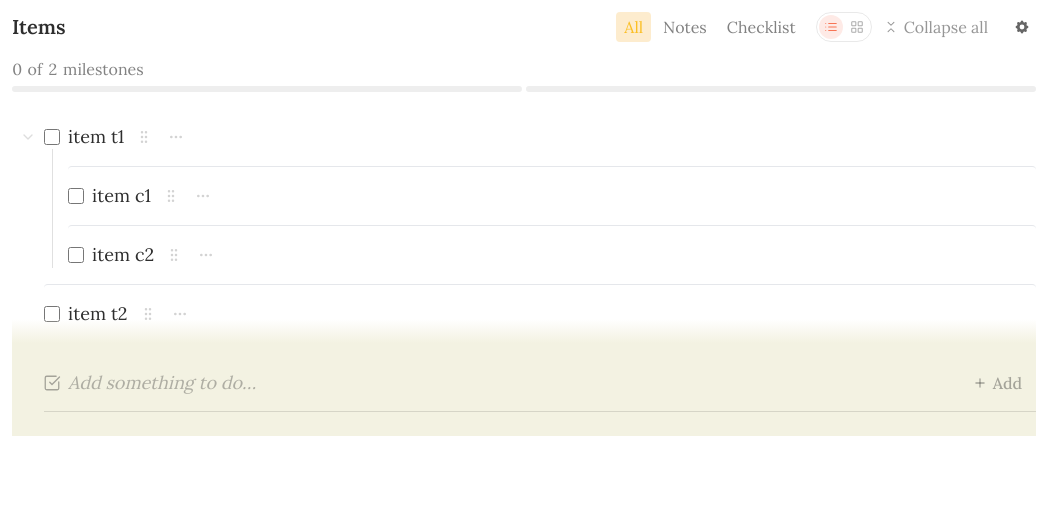
Test: Todo duplicate from a list row (FS-F6AEE R14–R18) › should insert nothing and show the item-action error when it fails
The image size is (1048, 511).
Expected: the text "item t1" is shown, x1=68 y1=124 x2=124 y2=150
Click the button named "Actions for item t1". click: (176, 137)
box: x1=164 y1=125 x2=188 y2=149
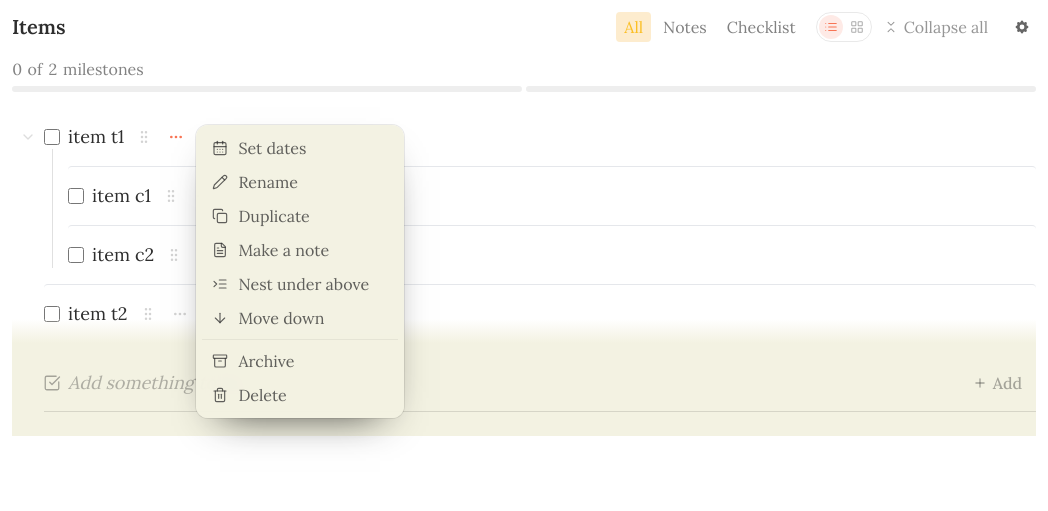
Click the menu item "Duplicate". click: (300, 216)
box: x1=202 y1=199 x2=398 y2=233
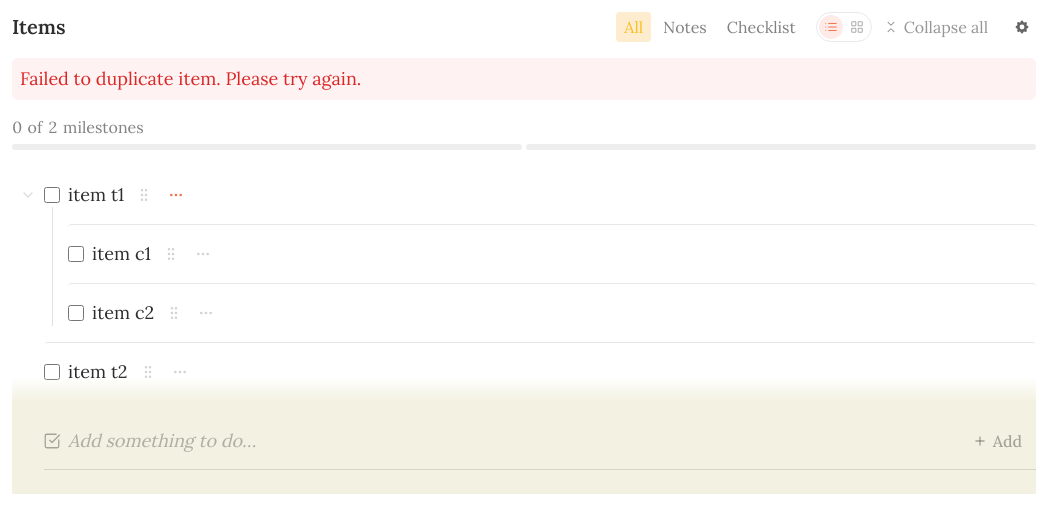
Expected: the text "Failed to duplicate item. Please try again." is shown, x1=12 y1=58 x2=1036 y2=100
